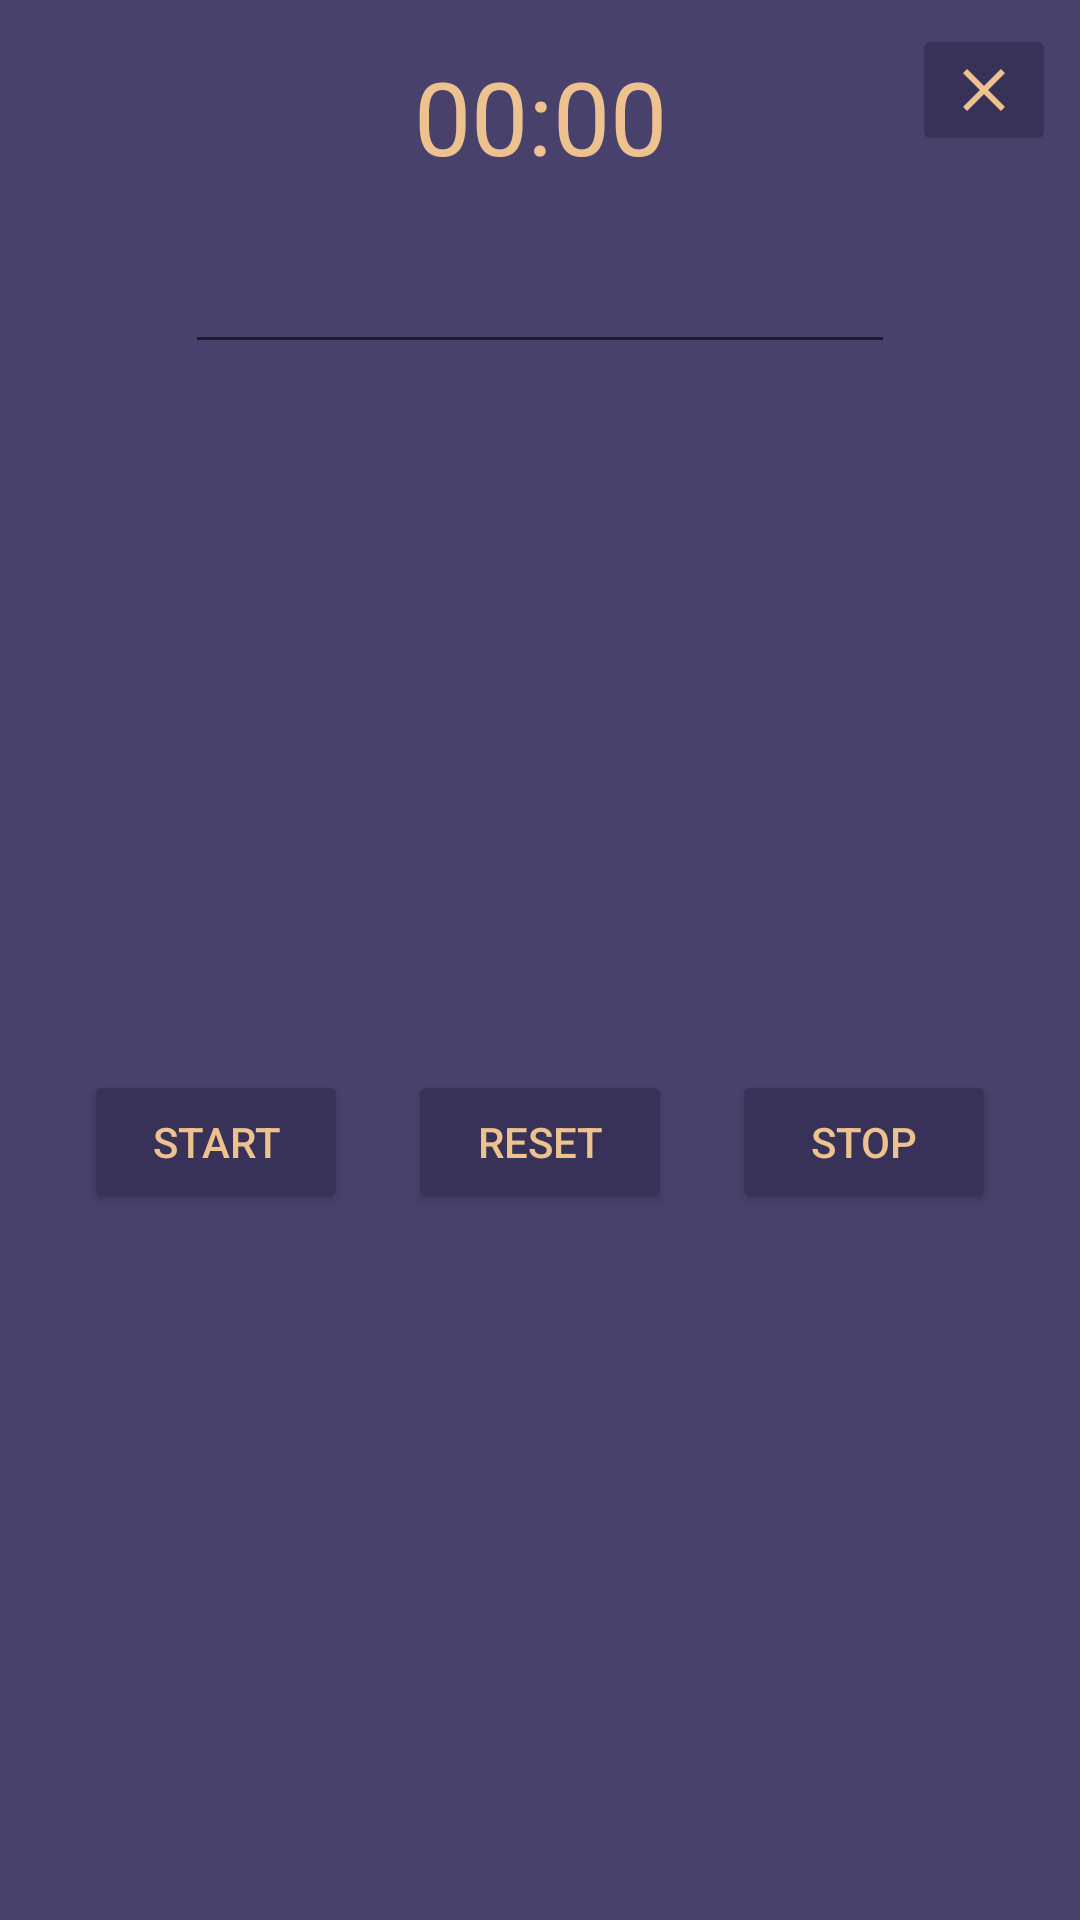

Screen size 1080px×1920px. Icon name, then its box in pixels as (x1,y1,x2,y2):
close dialog: (924,42,1044,138)
